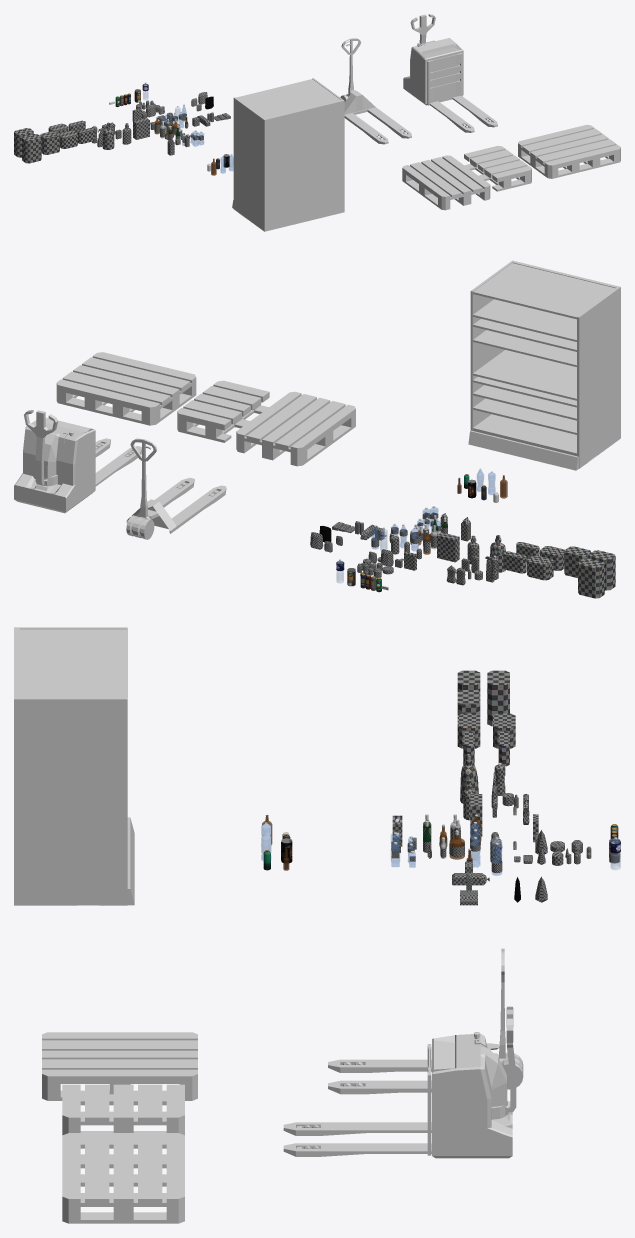
Rendered from transpalettes2.glb.
The picture shows the model from 3 angles, top to bottom: view 1: azimuth 30°, elevation 25°; view 2: azimuth 150°, elevation 25°; view 3: azimuth 270°, elevation 25°; orthographic projection. The views are drawn at different scales.
Parts seen in each view (by area): view 1: Mur, PaletteAmericaine, MurDroite, Palette, EtageSoutenu.002, DemiPalette, BlocPrincipal, Gerbeur, Pales, PQ24, PaleG, PaleD (+4 smaller); view 2: PaletteAmericaine, MurDroite, Palette, BlocPrincipal, EtageSoutenu.002, Base, DemiPalette, EtageSoutenu.003, EtageSoutenu.001, MurGauche, Pales, EtageSoutenu (+13 smaller); view 3: MurGauche, PaletteAmericaine, BlocPrincipal, Palette, EtageSoutenu.002, DemiPalette, Pales, PaleG, PaleD, Sopalin12, Timon.001.
Part boxes in pixels (x1,y1,x2,y2): Mur: (265, 100, 342, 231); PaletteAmericaine: (518, 124, 620, 178); MurDroite: (233, 97, 265, 231); Palette: (402, 155, 490, 210); EtageSoutenu.002: (236, 79, 340, 118); DemiPalette: (464, 146, 531, 191); BlocPrincipal: (403, 38, 463, 105); Gerbeur: (427, 53, 462, 105); Pales: (344, 90, 411, 144); PQ24: (22, 134, 41, 163); PaleG: (452, 95, 497, 127); PaleD: (429, 101, 474, 132); PaletteAmericaine: (56, 352, 196, 425); MurDroite: (577, 286, 620, 468); Palette: (236, 391, 355, 466); BlocPrincipal: (14, 417, 95, 513); EtageSoutenu.002: (473, 263, 615, 317); Base: (468, 414, 578, 470); DemiPalette: (177, 380, 269, 442); EtageSoutenu.003: (473, 350, 576, 400); EtageSoutenu.001: (473, 299, 576, 341); MurGauche: (470, 260, 513, 430); Pales: (126, 477, 226, 533); EtageSoutenu: (473, 330, 576, 366); MurGauche: (14, 698, 127, 905); PaletteAmericaine: (62, 1133, 184, 1223); BlocPrincipal: (432, 1033, 512, 1158); Palette: (42, 1032, 197, 1100); EtageSoutenu.002: (19, 629, 127, 697); DemiPalette: (62, 1084, 184, 1136); Pales: (328, 1043, 499, 1094); PaleG: (283, 1143, 431, 1156); PaleD: (283, 1122, 431, 1135); Sopalin12: (487, 670, 509, 726); Timon.001: (505, 1006, 516, 1115).
Size of the model in its own units: 9.16 by 2.54 by 5.34.
Materials: 108 (87 with a texture image).
